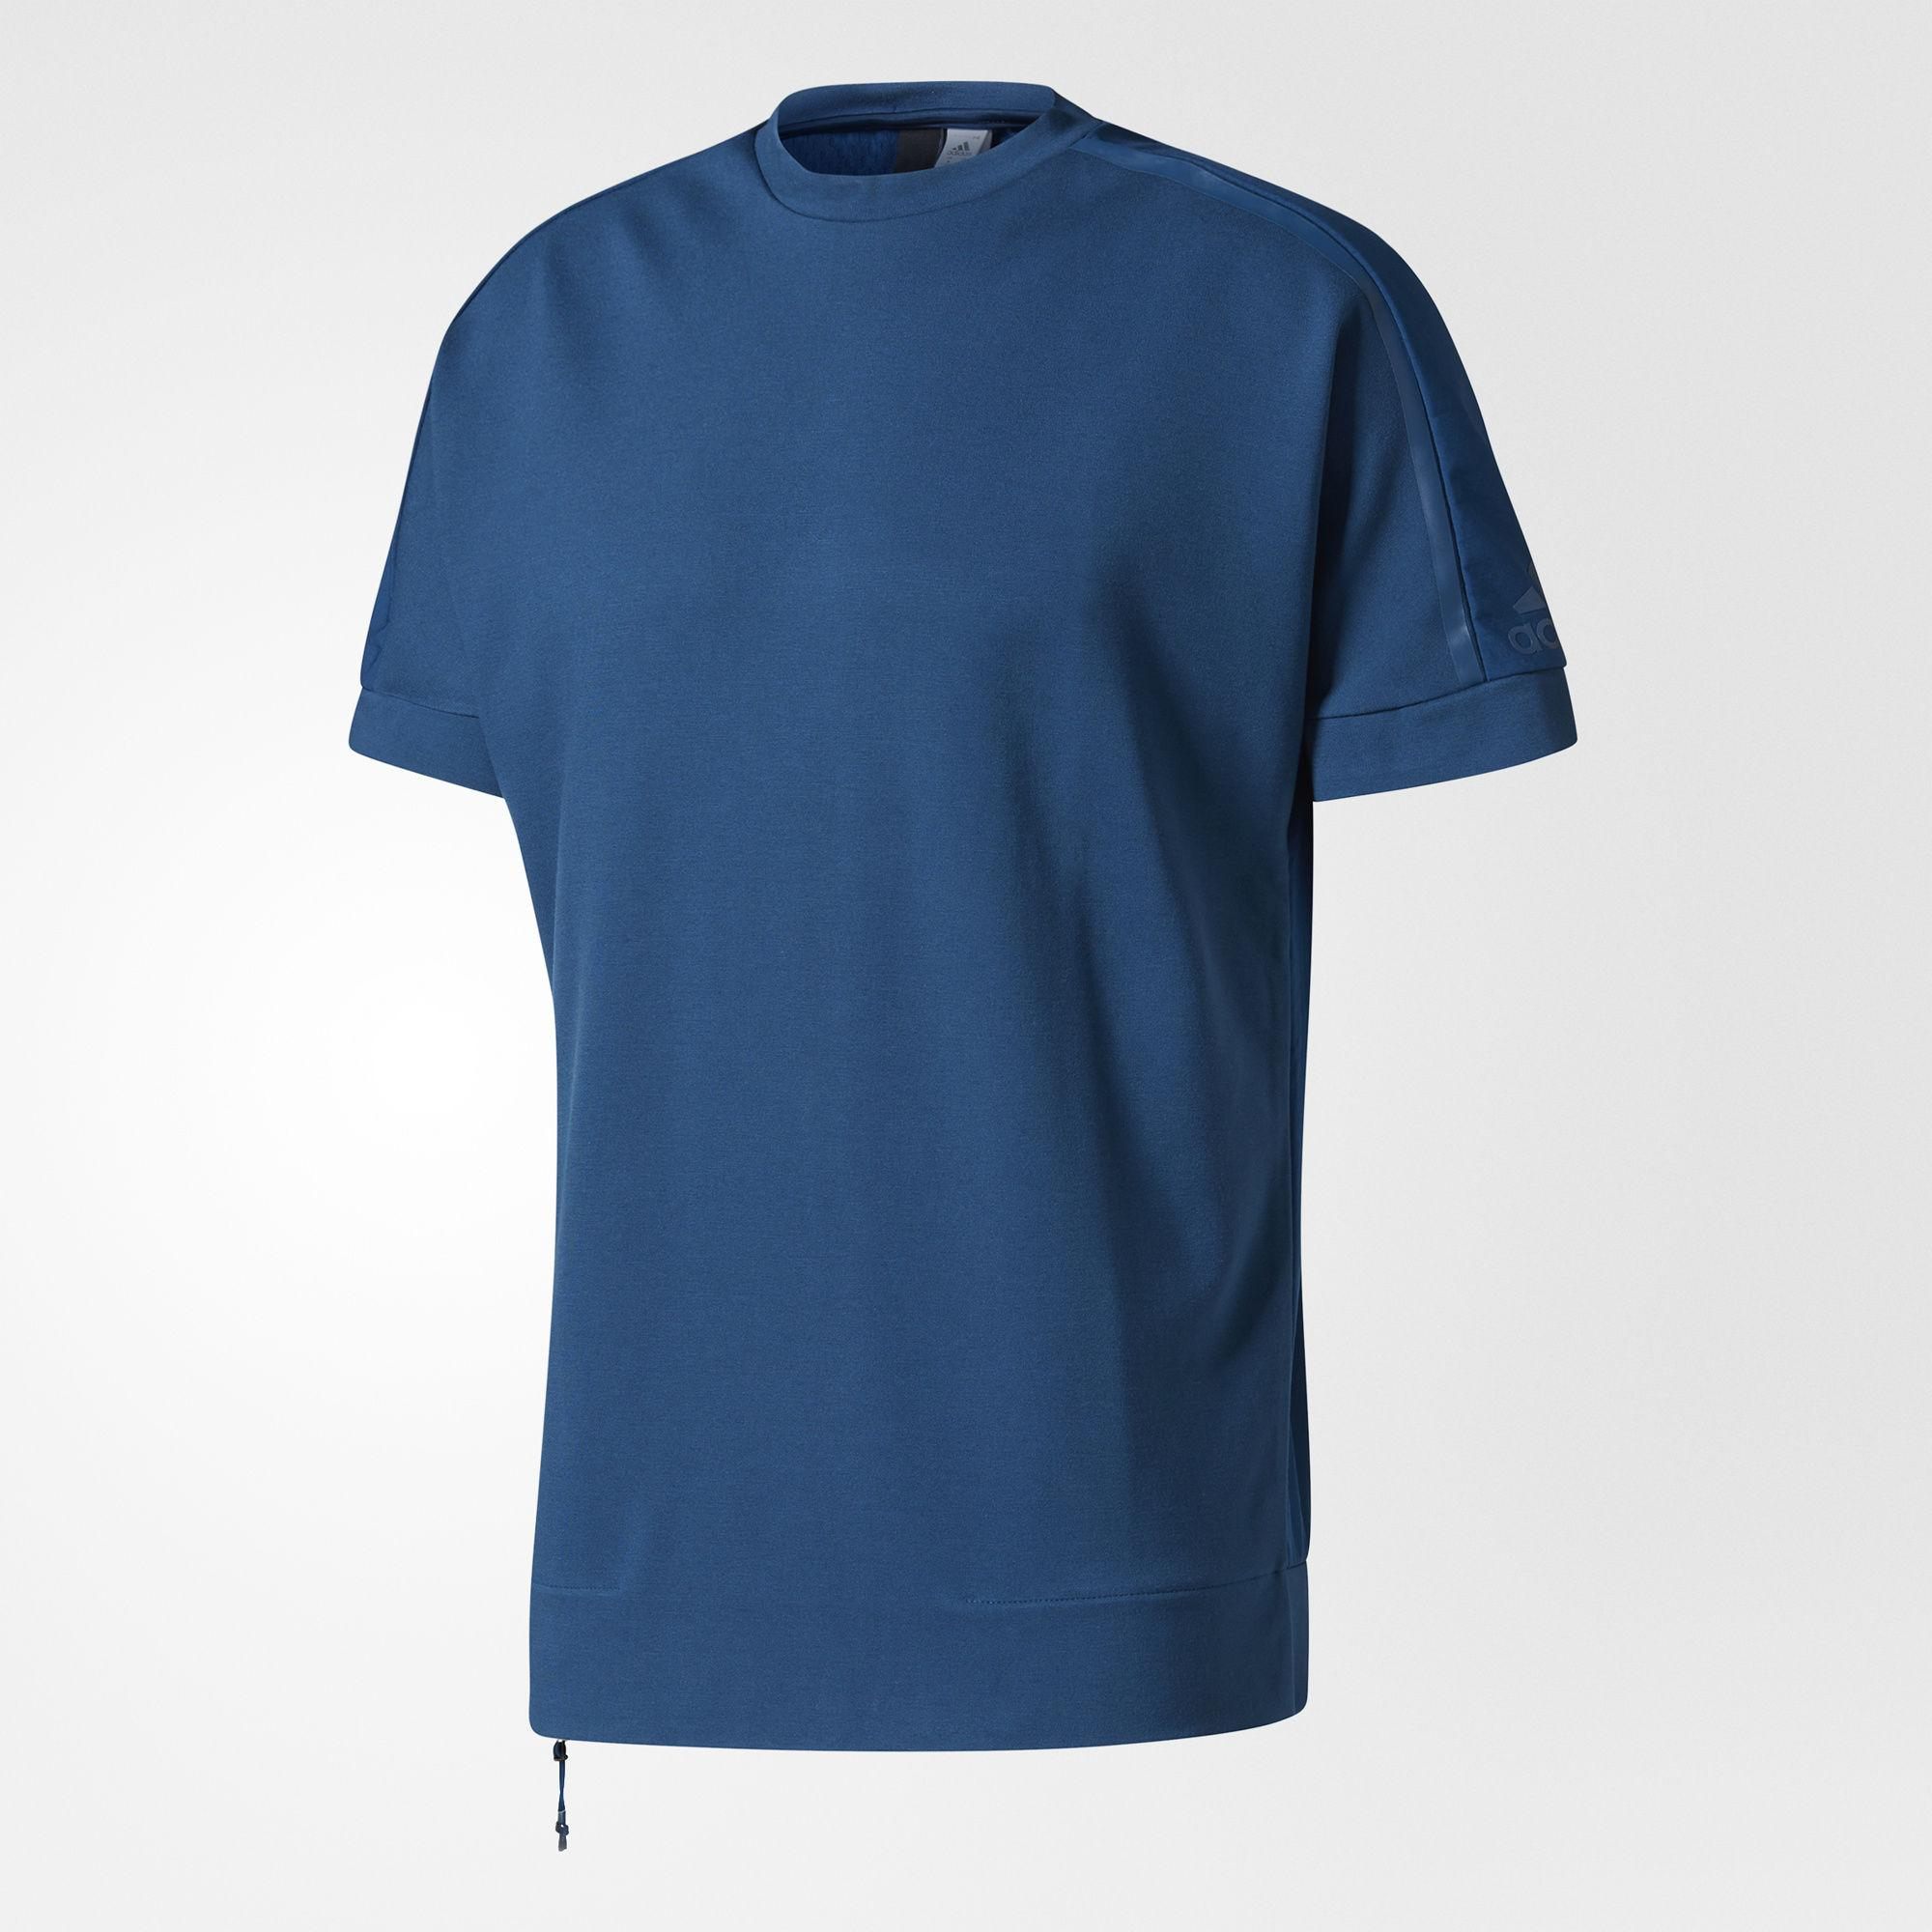teeshirt: (228, 73, 1614, 1789)
